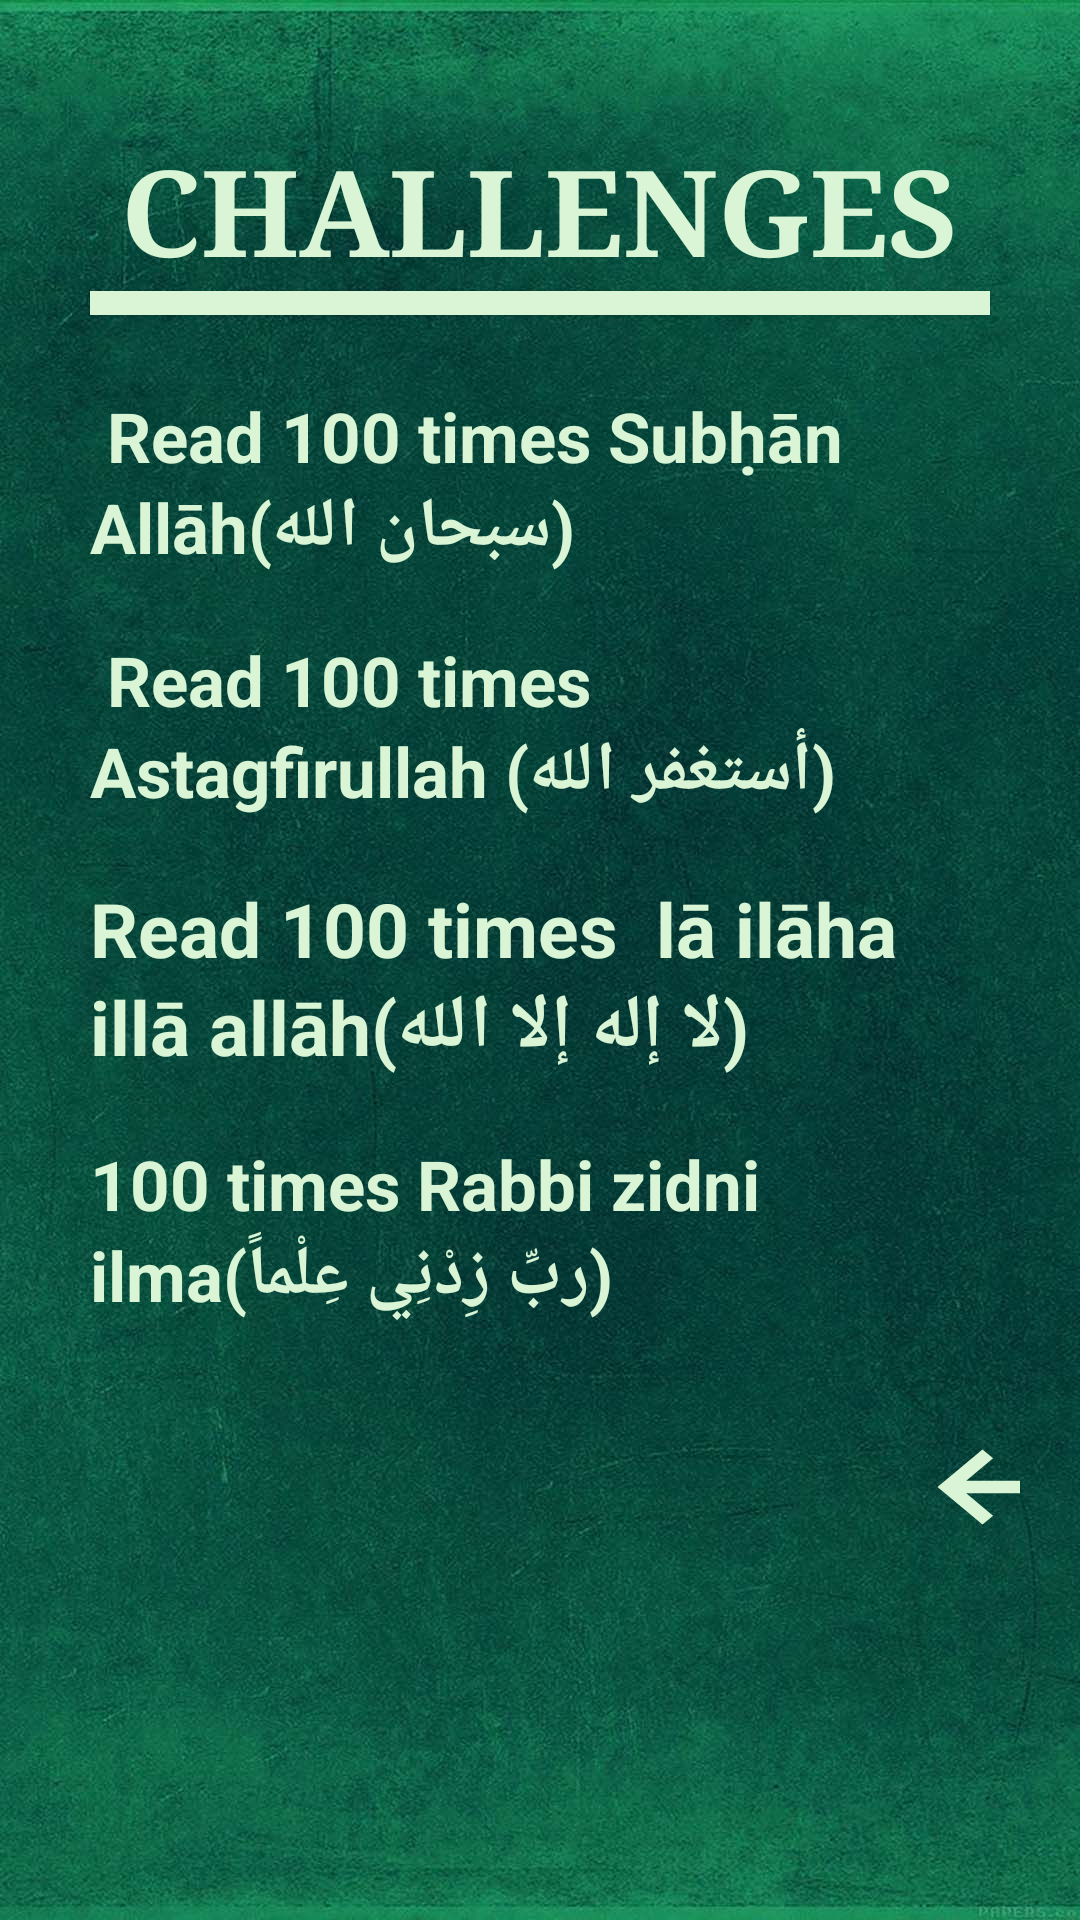

Where icons sit on this 1080w x 1920h app screen, as (x1, y1, x2, y2):
keyboard backspace: (916, 1415, 1064, 1562)
